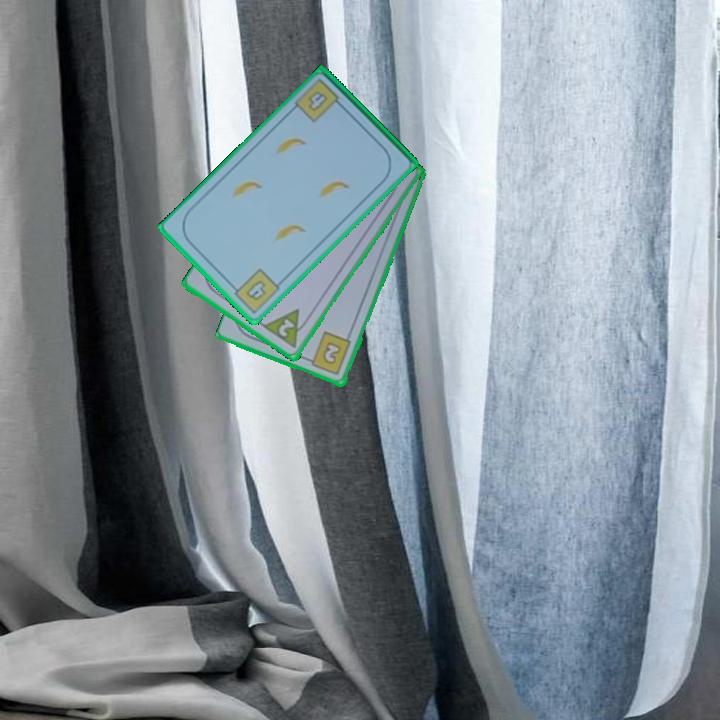2b: (303, 329, 354, 378)
2p: (260, 305, 313, 352)
4b: (227, 265, 283, 317), (304, 88, 331, 115)
